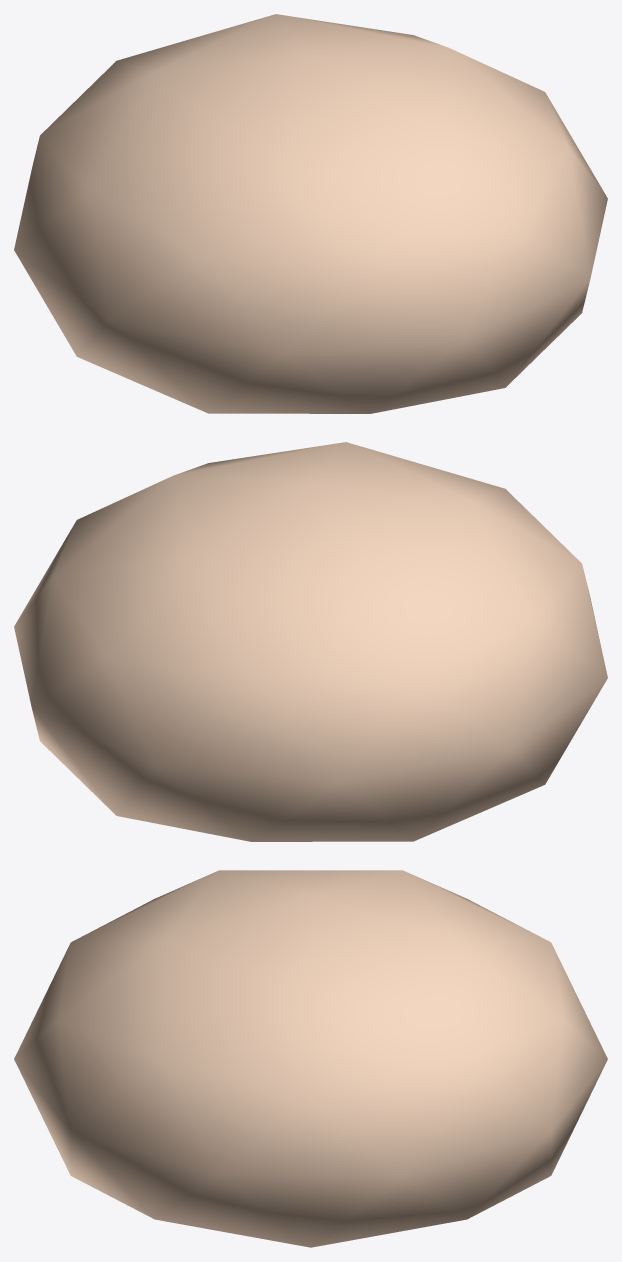
Rendered from Dough.glb.
The picture shows the model from 3 angles, top to bottom: view 1: azimuth 30°, elevation 25°; view 2: azimuth 150°, elevation 25°; view 3: azimuth 270°, elevation 25°; orthographic projection. The views are drawn at different scales.
Visible parts, largest first — view 1: Icosphere.023; view 2: Icosphere.023; view 3: Icosphere.023.
Boxes of the visible parts, bbox=[...] form: Icosphere.023: bbox=[14, 14, 607, 413]; Icosphere.023: bbox=[14, 442, 607, 841]; Icosphere.023: bbox=[14, 870, 607, 1247].
Size of the model in its own units: 0.6556 by 0.3834 by 0.708.
